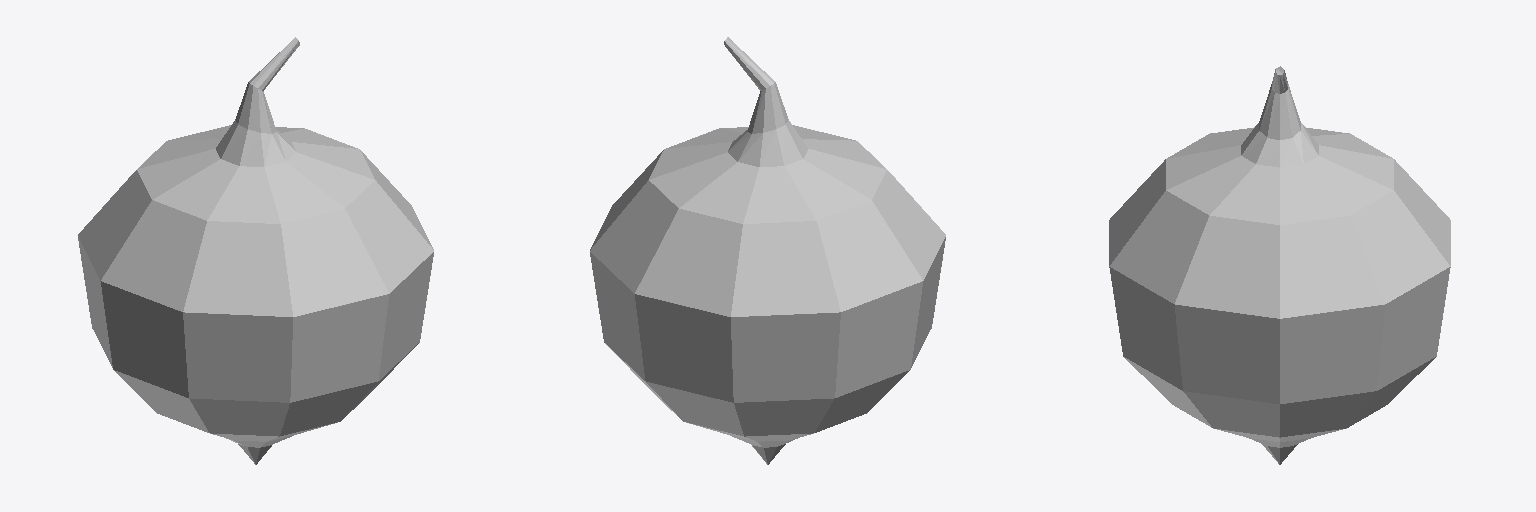
Rendered from onion.obj.
3 renders of one model, left to right at view 1: azimuth 30°, elevation 25°; view 2: azimuth 150°, elevation 25°; view 3: azimuth 270°, elevation 25°, orthographic.
Parts seen in each view (by area): view 1: Onion1_Whole Onion2; view 2: Onion1_Whole Onion2; view 3: Onion1_Whole Onion2.
Boxes of the visible parts, box(x1,y1,x2,y2) form: Onion1_Whole Onion2: box(78, 37, 433, 464); Onion1_Whole Onion2: box(590, 37, 945, 464); Onion1_Whole Onion2: box(1109, 66, 1450, 464).
Size of the model in its own units: 0.4271 by 0.5496 by 0.4062.